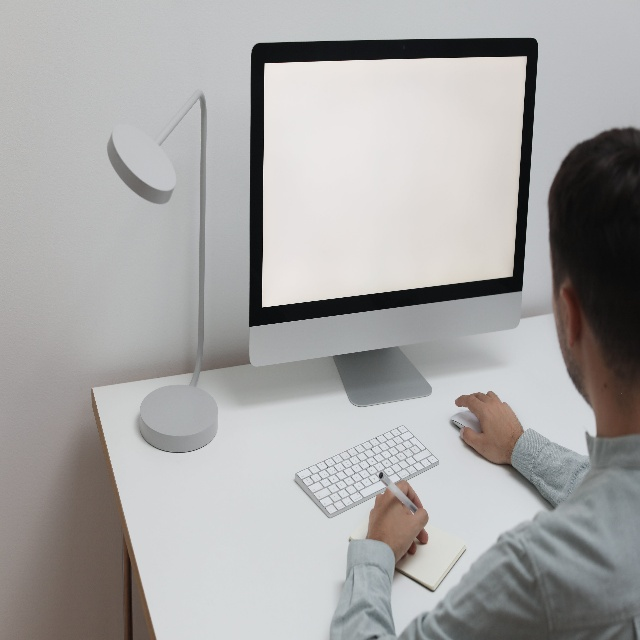Sin_guantes: (365, 478, 430, 564), (454, 388, 525, 465)
